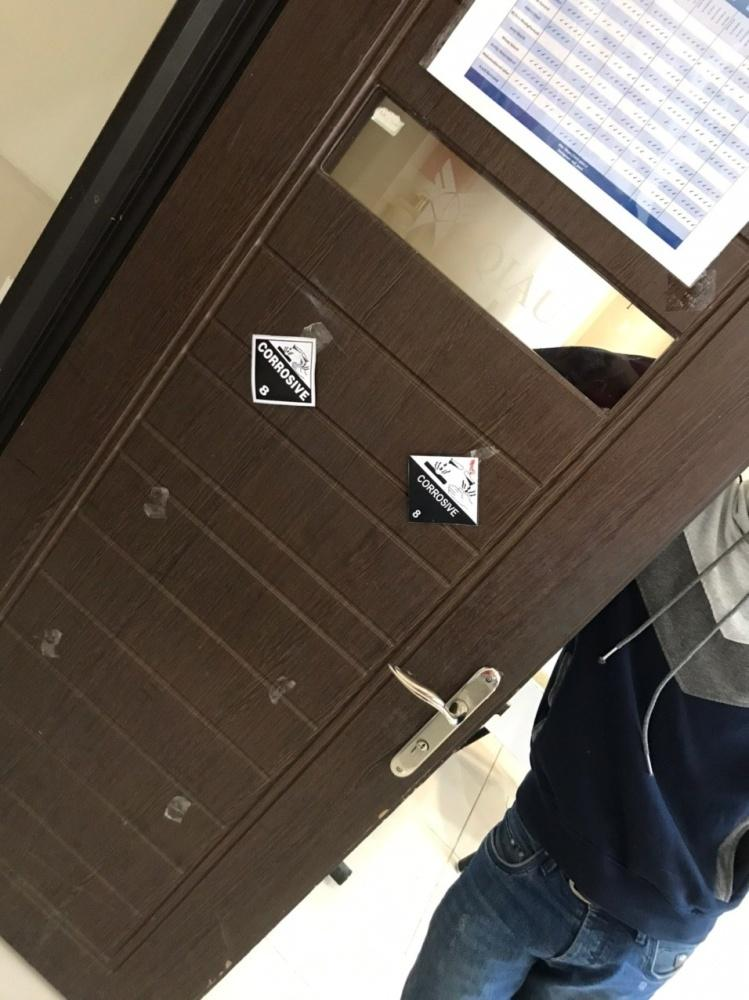corrosive: (404, 453, 482, 528), (250, 331, 317, 412)
